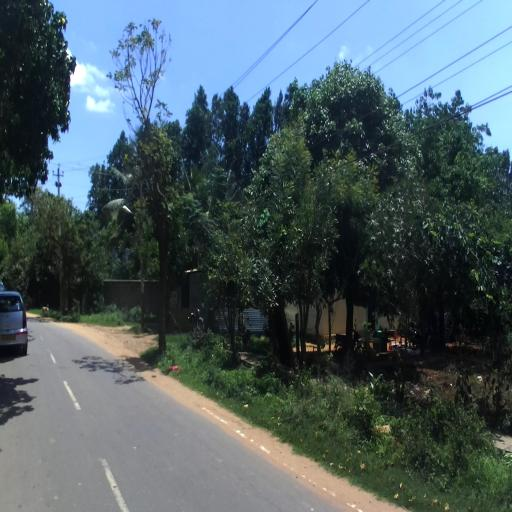street_light_0: (123, 205, 133, 214)
